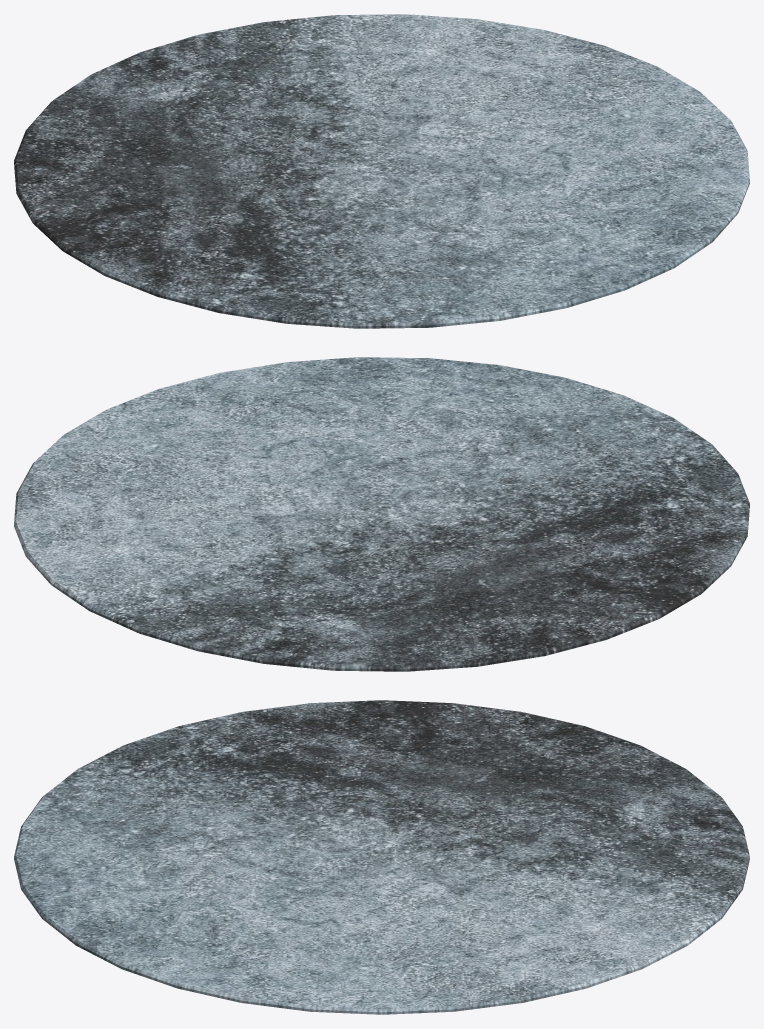
The model's file is Textile_round_rug_01.glb.
3 views of the same model, one above another, from view 1: azimuth 30°, elevation 25°; view 2: azimuth 150°, elevation 25°; view 3: azimuth 270°, elevation 25° (orthographic).
Parts seen in each view (by area): view 1: round_rug_01; view 2: round_rug_01; view 3: round_rug_01.
Part boxes in pixels (x1,y1,x2,y2): round_rug_01: (14,14,749,328); round_rug_01: (14,357,749,671); round_rug_01: (14,700,749,1014).
Size of the model in its own units: 1.5 by 0.015 by 1.5.
Materials: 1 (1 with a texture image).
